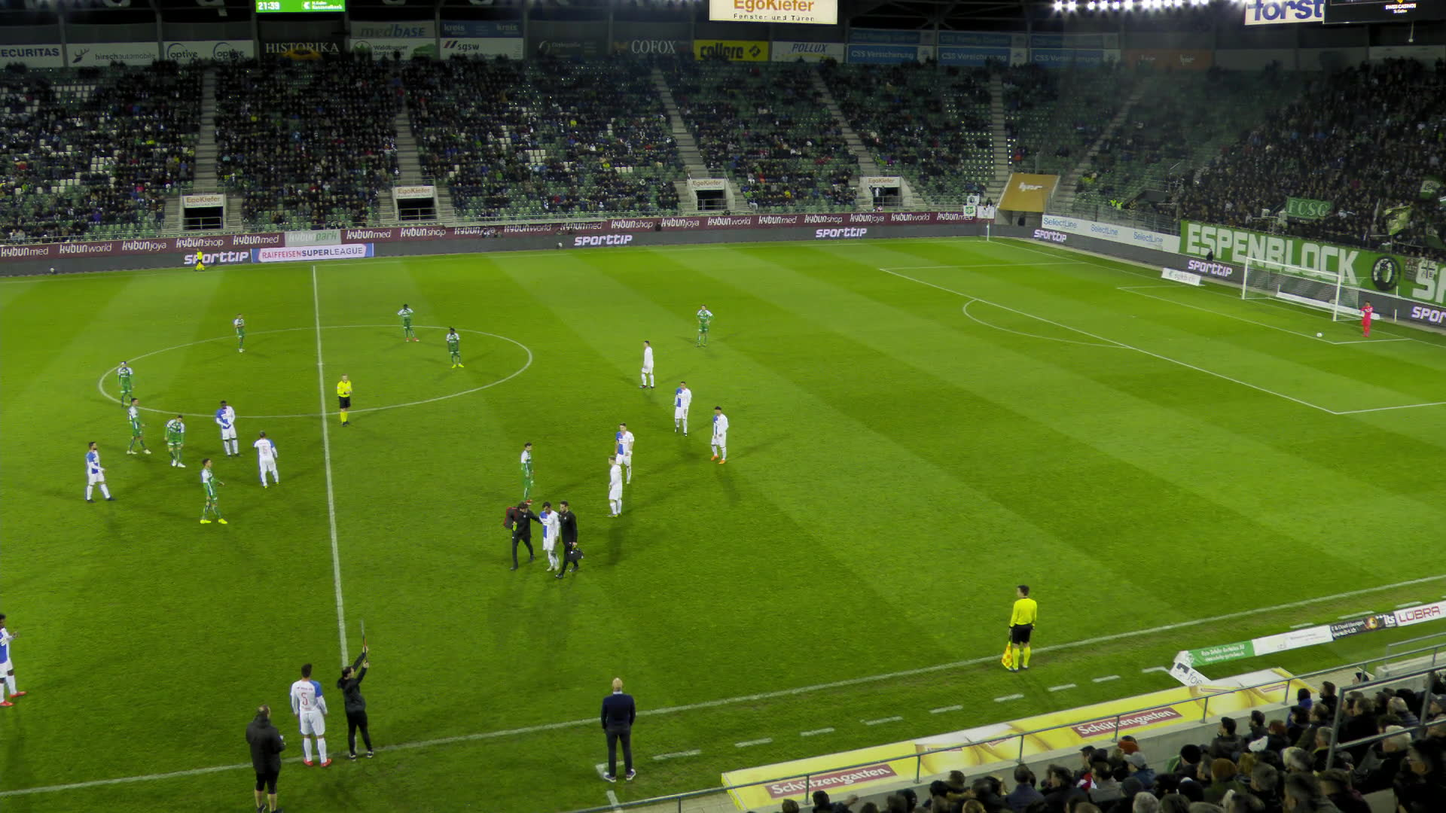ball: (337, 646, 374, 760), (502, 498, 541, 572), (556, 500, 587, 579), (1316, 332, 1321, 336)
player: (289, 663, 331, 767), (596, 454, 630, 519), (0, 621, 25, 706), (81, 443, 111, 505), (211, 397, 241, 458), (199, 458, 226, 525), (538, 501, 562, 573), (661, 381, 691, 437), (612, 421, 637, 488), (126, 395, 151, 456), (253, 431, 279, 488), (708, 403, 728, 468), (518, 442, 538, 504), (163, 414, 185, 467), (396, 302, 419, 342), (444, 325, 465, 367), (639, 338, 656, 389), (694, 304, 713, 346), (117, 361, 133, 407), (233, 313, 246, 354), (1359, 300, 1371, 336)
referee: (1004, 580, 1043, 673), (334, 370, 354, 428), (195, 245, 205, 270)
